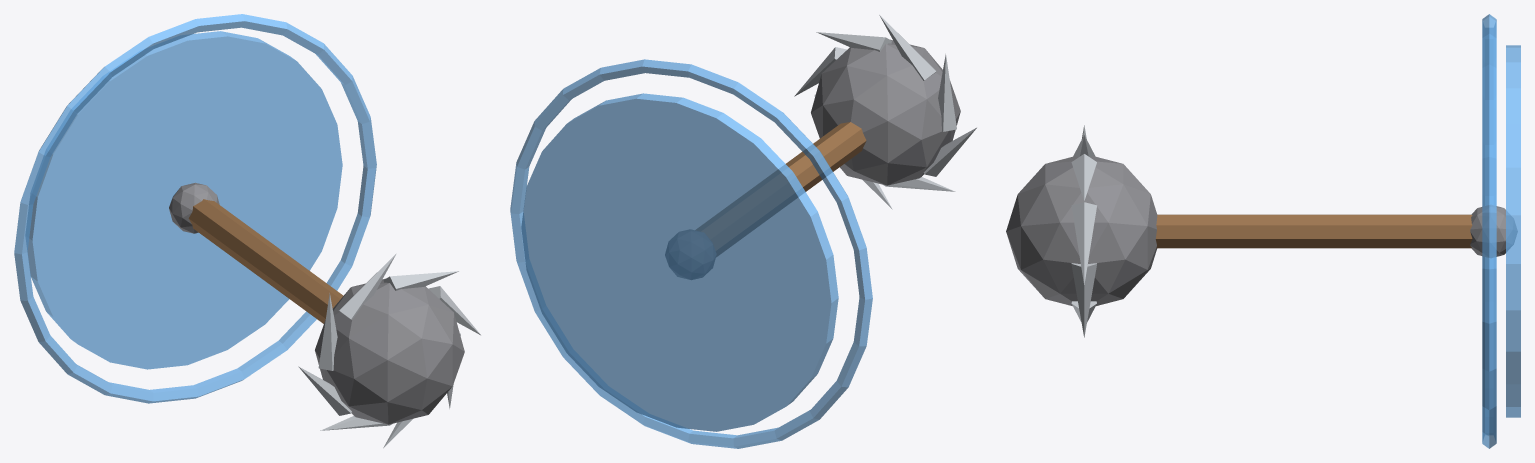
File: weapon_pickup_spiked_mace_rare.glb
3 renders of one model, left to right at view 1: azimuth 30°, elevation 25°; view 2: azimuth 150°, elevation 25°; view 3: azimuth 270°, elevation 25°, orthographic. The views are drawn at different scales.
Parts seen in each view (by area): view 1: rarity_base_disc, rarity_orbit_ring, head, handle, pommel, spike_3, spike_4, spike_2, spike_5, spike_1, spike_6; view 2: rarity_base_disc, rarity_orbit_ring, head, handle, pommel, spike_3, spike_4, spike_2, spike_5, spike_1, spike_6; view 3: head, handle, rarity_orbit_ring, rarity_base_disc, pommel, spike_1, spike_0, spike_2.
Boxes of the visible parts, bbox=[...] form: rarity_base_disc: bbox=[26, 31, 342, 369]; rarity_orbit_ring: bbox=[14, 14, 376, 403]; head: bbox=[315, 278, 464, 424]; handle: bbox=[188, 199, 343, 323]; pommel: bbox=[169, 182, 219, 233]; spike_3: bbox=[339, 253, 396, 319]; spike_4: bbox=[318, 293, 337, 370]; spike_2: bbox=[383, 271, 459, 290]; spike_5: bbox=[298, 366, 351, 415]; spike_1: bbox=[428, 286, 480, 335]; spike_6: bbox=[320, 416, 392, 430]; rarity_base_disc: bbox=[521, 93, 838, 431]; rarity_orbit_ring: bbox=[510, 59, 872, 448]; head: bbox=[811, 39, 960, 185]; handle: bbox=[696, 122, 866, 256]; pommel: bbox=[665, 230, 715, 279]; spike_3: bbox=[879, 14, 936, 80]; spike_4: bbox=[938, 54, 956, 131]; spike_2: bbox=[816, 32, 891, 51]; spike_5: bbox=[923, 127, 976, 176]; spike_1: bbox=[794, 47, 846, 96]; spike_6: bbox=[883, 177, 955, 191]; head: bbox=[1006, 156, 1157, 306]; handle: bbox=[1155, 214, 1472, 248]; rarity_orbit_ring: bbox=[1482, 14, 1496, 448]; rarity_base_disc: bbox=[1506, 45, 1520, 417]; pommel: bbox=[1470, 205, 1517, 257]; spike_1: bbox=[1071, 202, 1096, 284]; spike_0: bbox=[1071, 263, 1096, 337]; spike_2: bbox=[1071, 154, 1096, 200].
Bounding box in the file's own units: 1.45 × 1.45 × 1.71.
